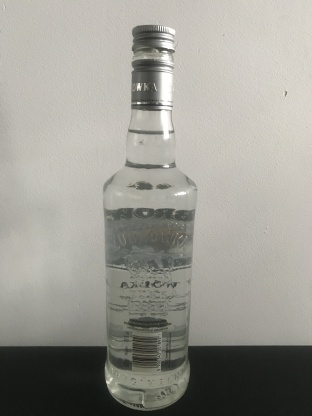nakretka: (130, 23, 175, 111)
